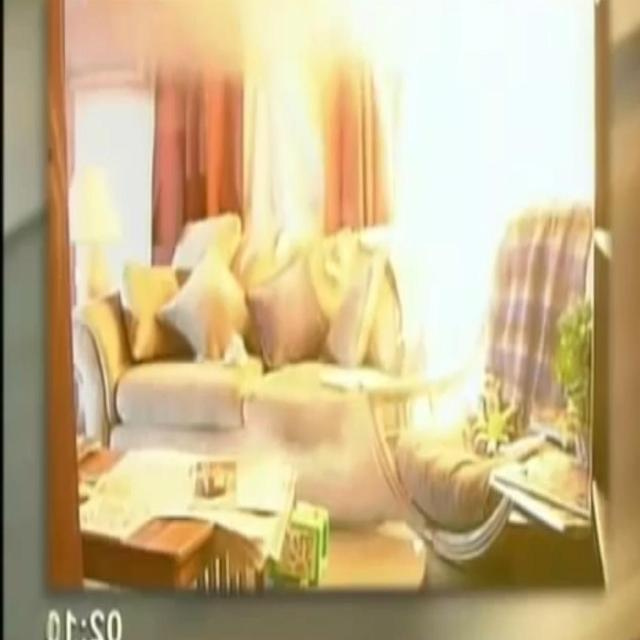smoke: (399, 36, 518, 422)
